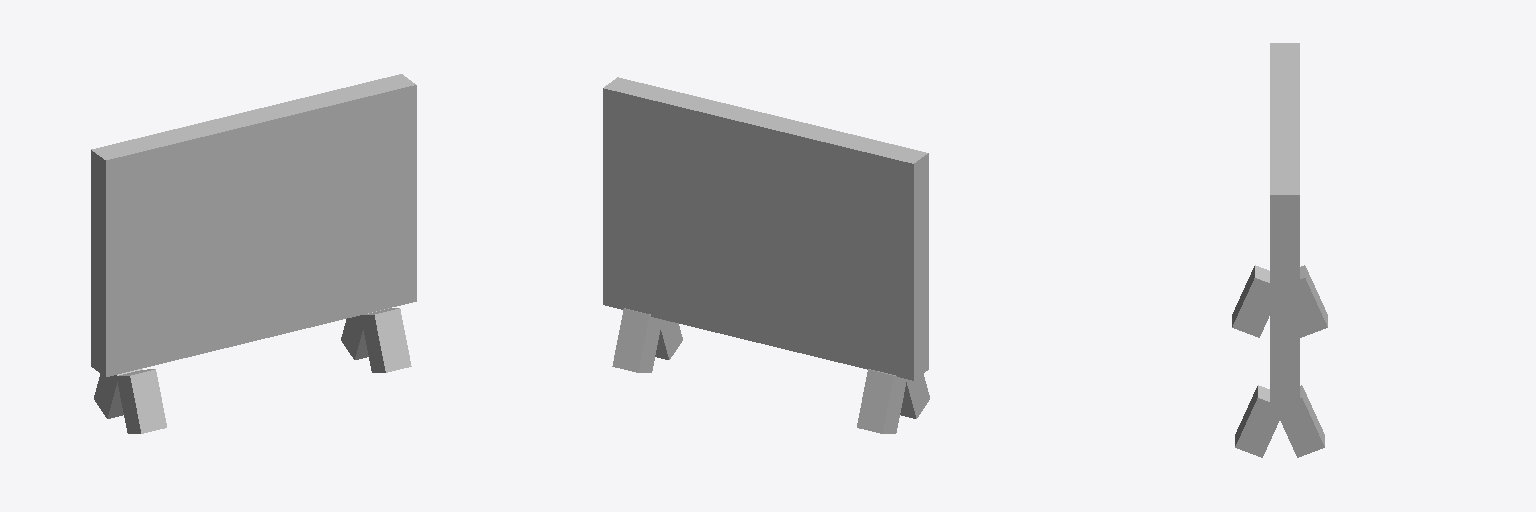
The model's file is tvflat.obj.
The picture shows the model from 3 angles: view 1: azimuth 30°, elevation 25°; view 2: azimuth 150°, elevation 25°; view 3: azimuth 270°, elevation 25°; orthographic projection.
Parts seen in each view (by area): view 1: Block1, Block2; view 2: Block1, Block2; view 3: Block1, Block2.
Part boxes in pixels (x1,y1,x2,y2): Block1: (91,74,416,418); Block2: (118,308,411,433); Block1: (603,77,928,433); Block2: (655,320,929,418); Block1: (1270,43,1327,457); Block2: (1232,265,1282,457).
Size of the model in its own units: 0.75 by 0.6322 by 0.2009.